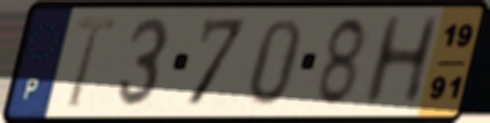0: (245, 16, 302, 109)
3: (115, 14, 174, 111)
7: (187, 14, 253, 110)
8: (315, 14, 371, 110)
H: (357, 13, 445, 111)
T: (64, 13, 120, 112)
